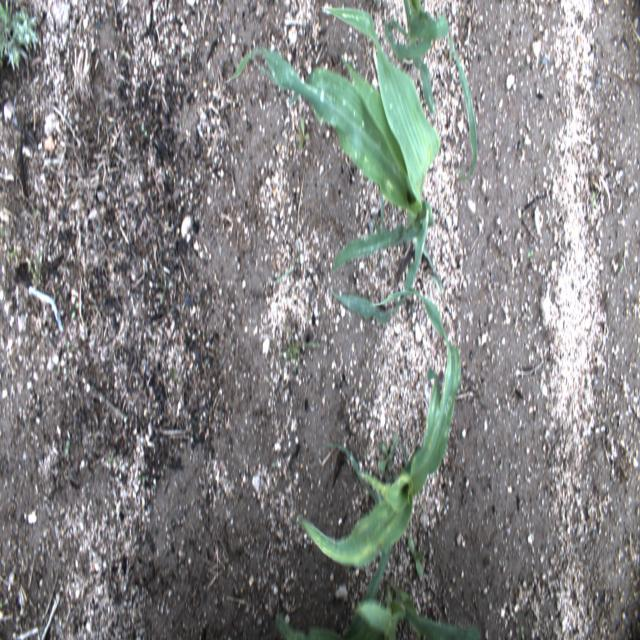crop: (226, 7, 443, 325), (295, 287, 461, 604), (384, 0, 478, 180), (274, 580, 482, 640)
weed: (0, 0, 38, 71), (278, 321, 320, 375), (378, 433, 399, 475), (408, 532, 425, 580), (296, 116, 310, 152), (29, 251, 40, 295), (66, 343, 76, 360), (7, 248, 16, 262), (72, 301, 79, 319), (590, 190, 596, 208), (65, 438, 70, 456), (527, 248, 534, 258), (521, 624, 525, 640), (620, 263, 623, 274)
